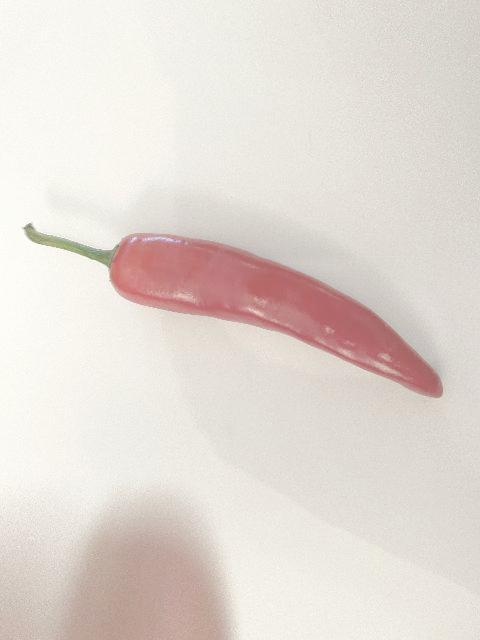chilli: (22, 220, 444, 400)
